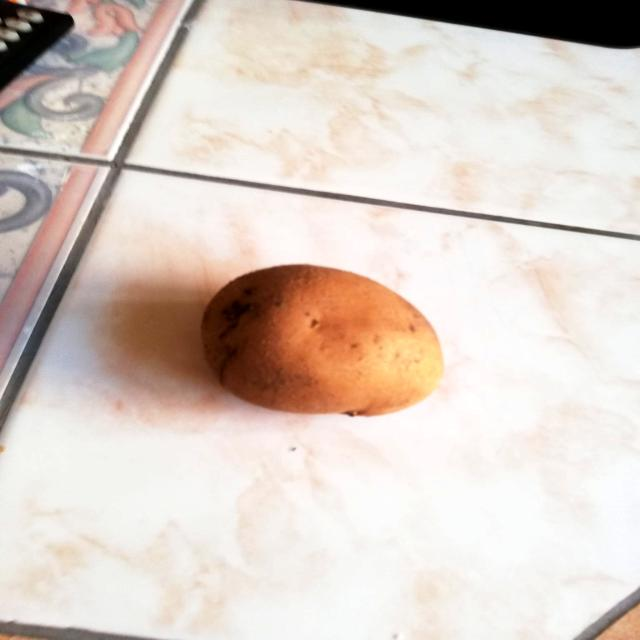potato: (190, 255, 452, 426)
